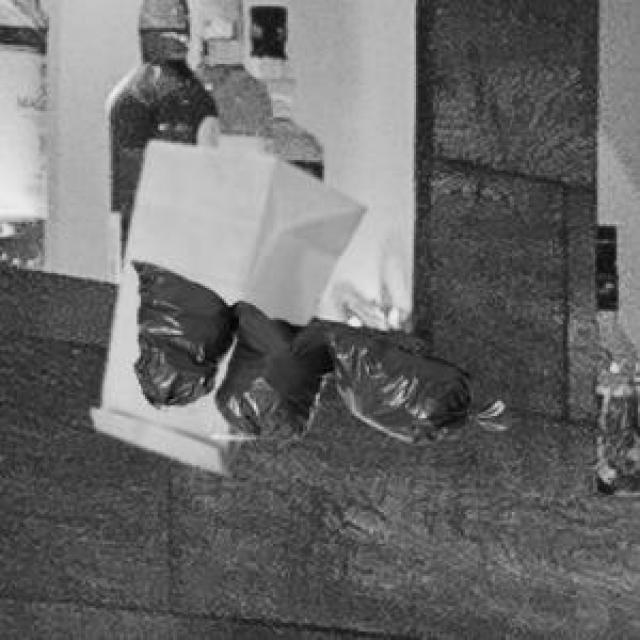miscellaneous trash: (128, 258, 472, 440)
paper: (88, 137, 361, 469)
